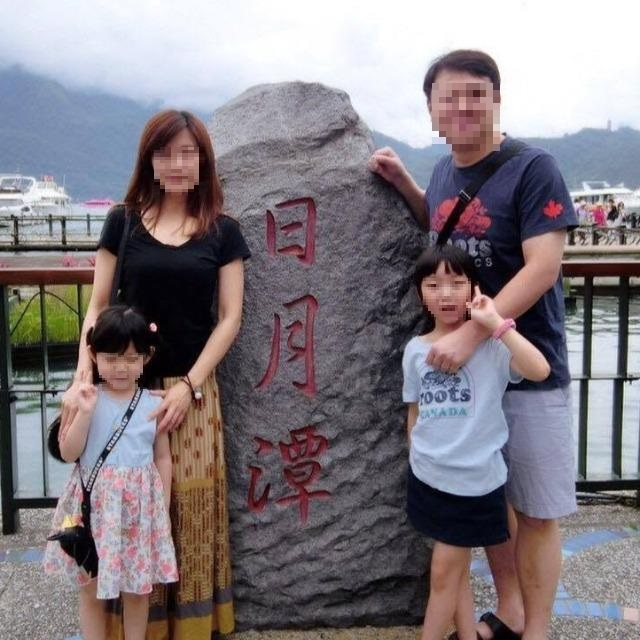NoHelmet: (420, 46, 511, 152), (138, 108, 218, 196)
